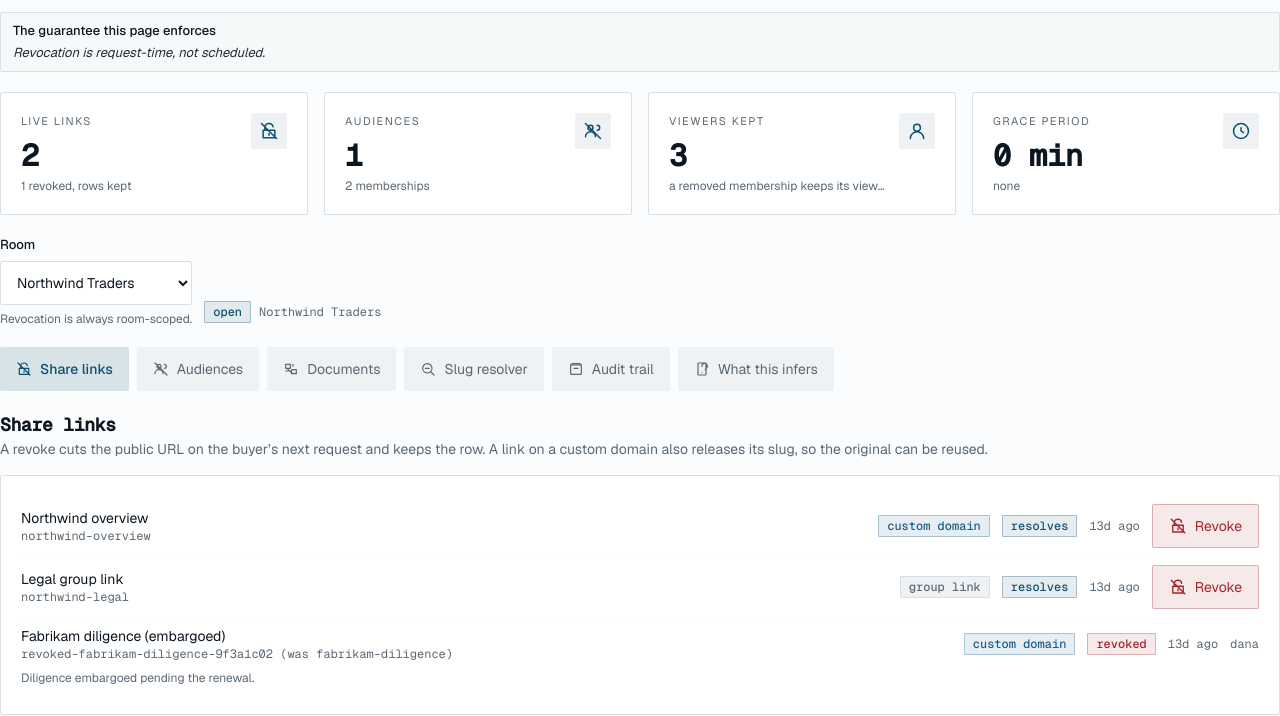
Test: audiences › states the cascade before the button, not only after it
expect the tab "Share links" is shown: met, box [0,348,129,392]
Step 1. Click the tab "Audiences" → point(198, 370), box [137,348,259,392]
(page scrolled)
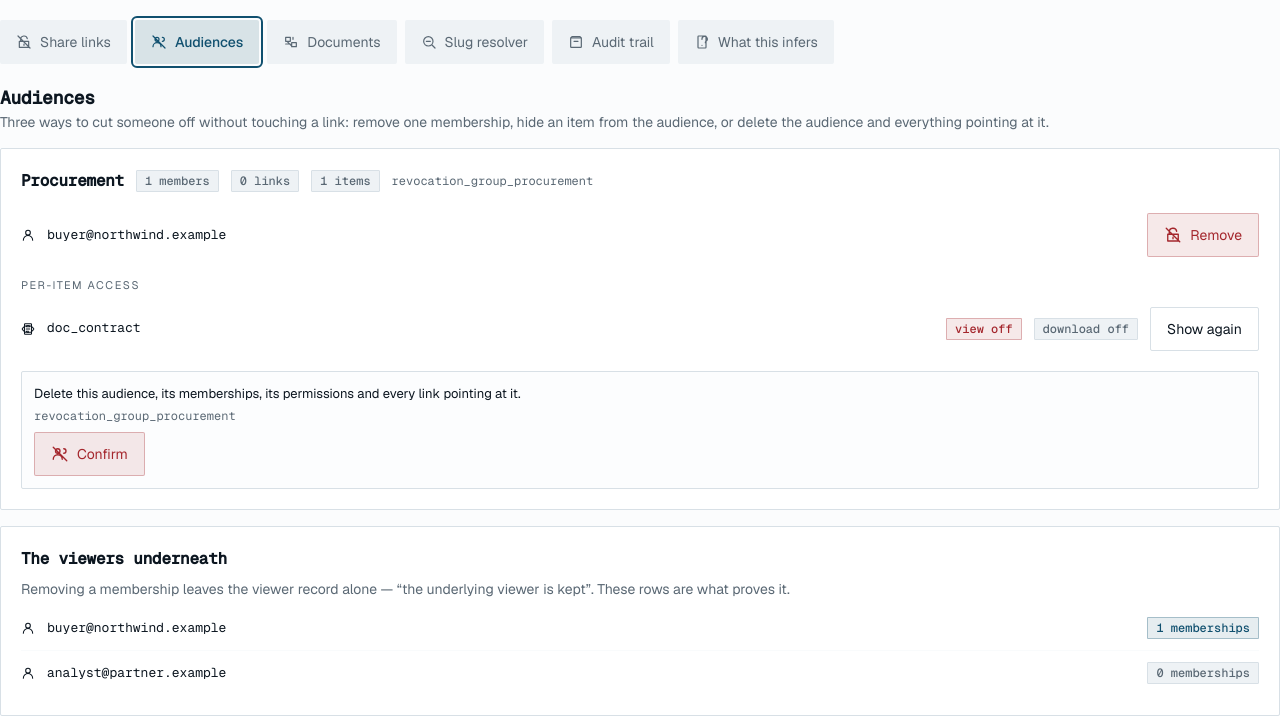
expect the text "memberships, its permissions and every link pointing at it" is shown: met, box [34,384,521,402]
